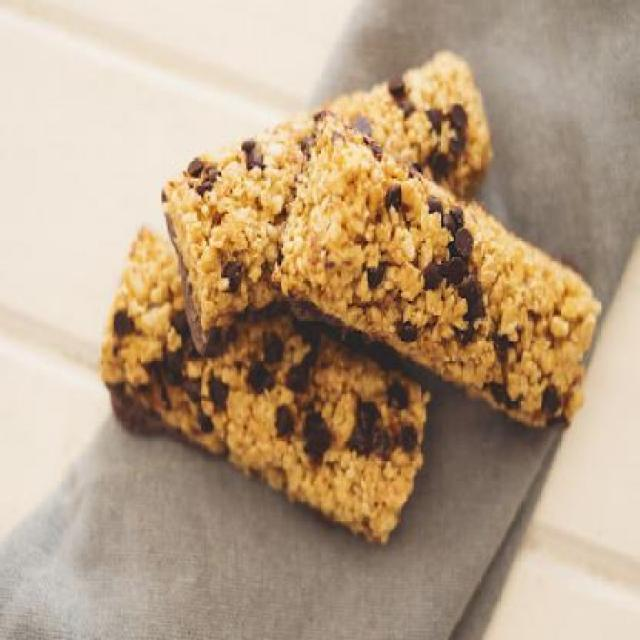Cereal bar packaged: (282, 129, 600, 442), (156, 49, 502, 328)
